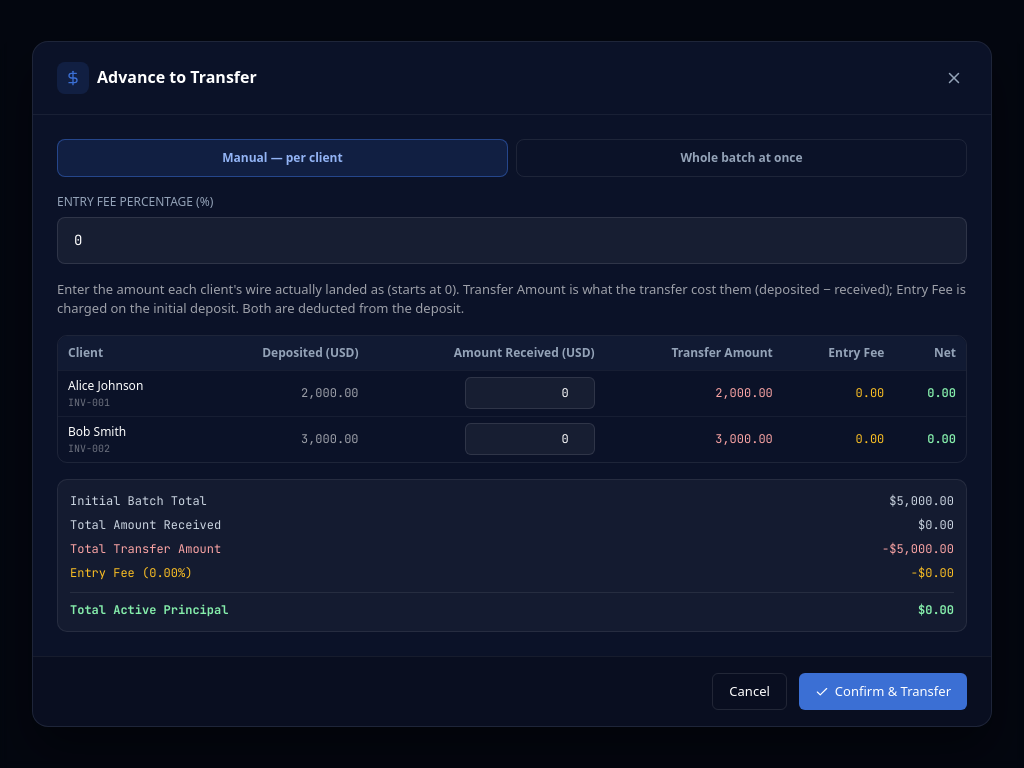
Scenario: TransferCostModal — manual per-client amounts (Transfer stage) › recomputes Total Active Principal live as amounts and entry fee change
The width and height of the screenshot is (1024, 768).
Replace the text in the number field named "Amount received for Alice Johnson" with "1800" at (530, 393), box x1=465 y1=377 x2=595 y2=409
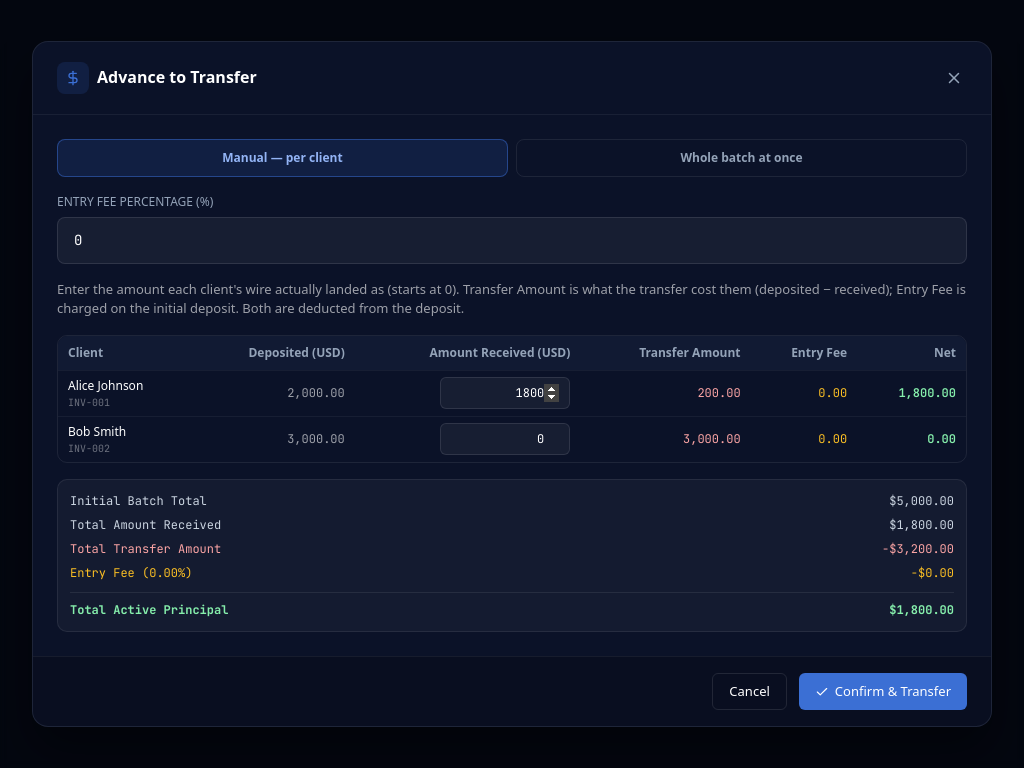
Replace the text in the number field named "Amount received for Bob Smith" with "3000" at (505, 439), box x1=440 y1=423 x2=570 y2=455
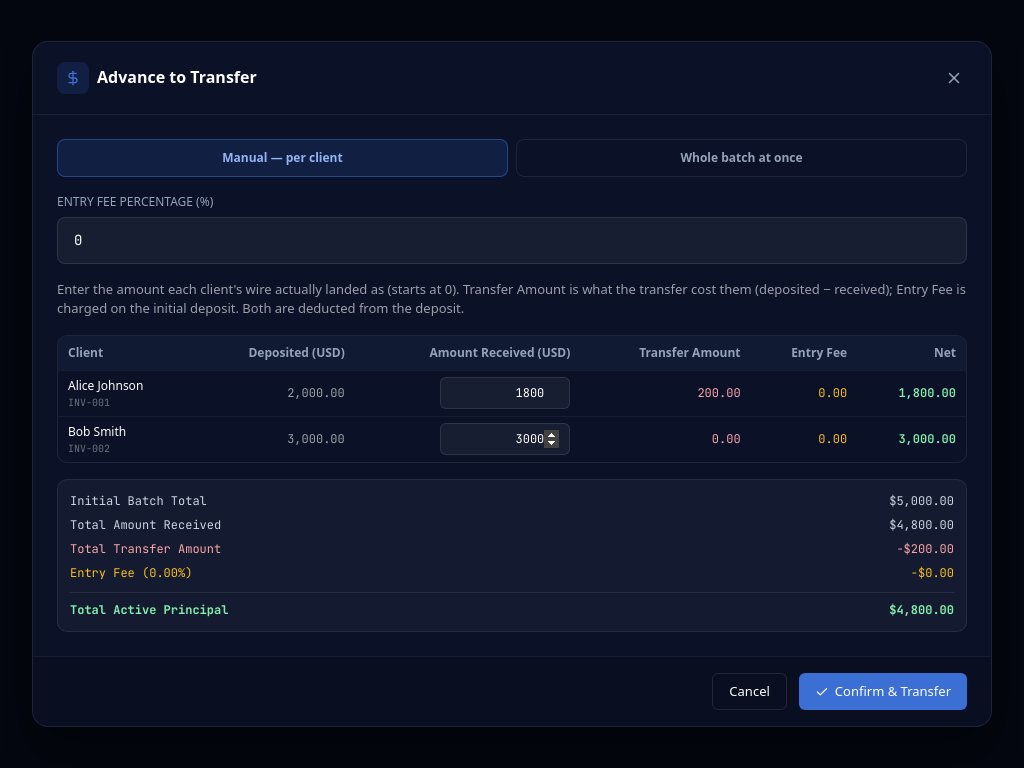
Replace the text in the 1st number field with "2" at (512, 240), box x1=57 y1=217 x2=967 y2=264
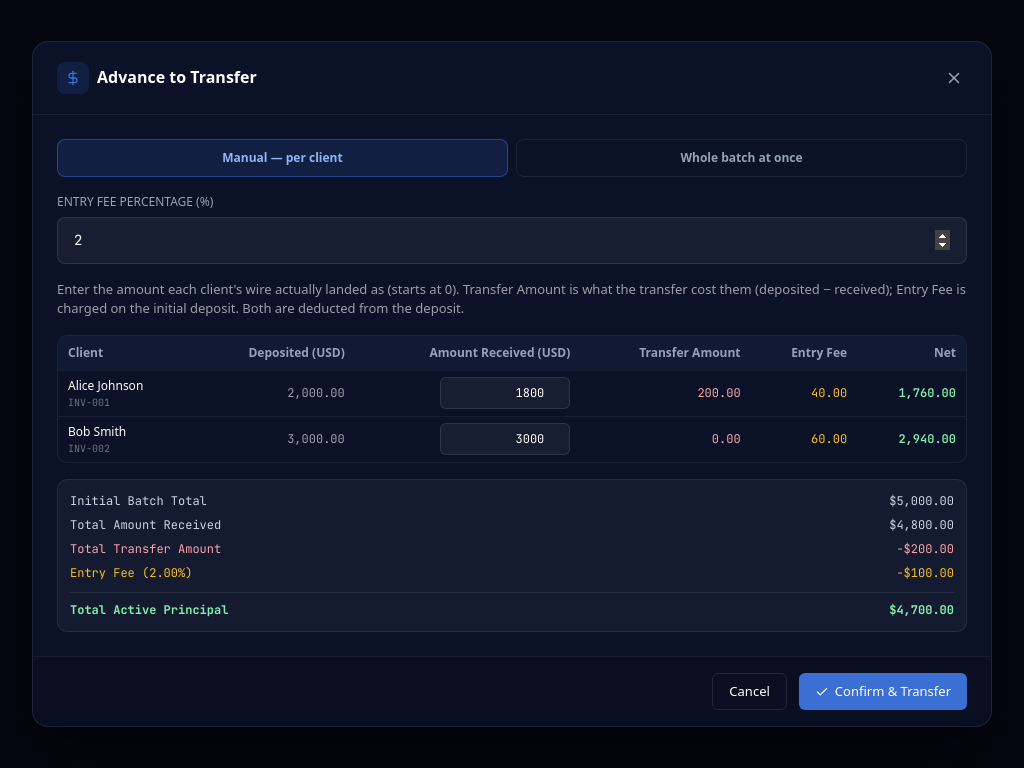
Check: the text "$4,700.00" is shown, box x1=889 y1=601 x2=954 y2=619
